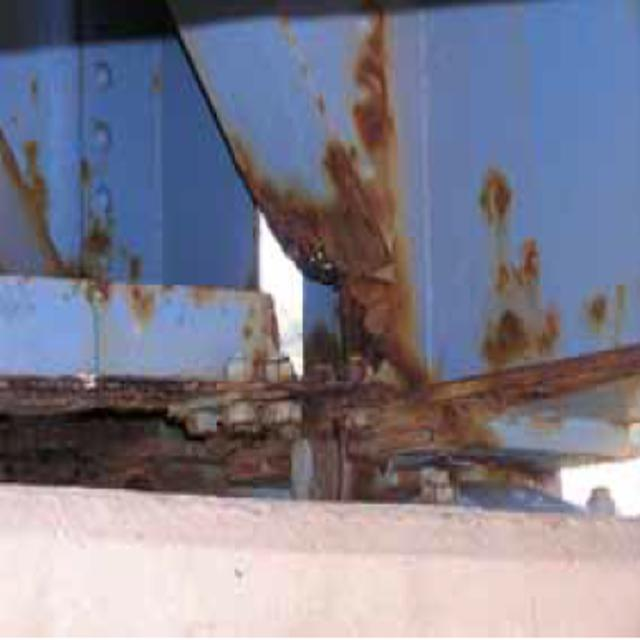corrosion: (43, 31, 618, 513)
